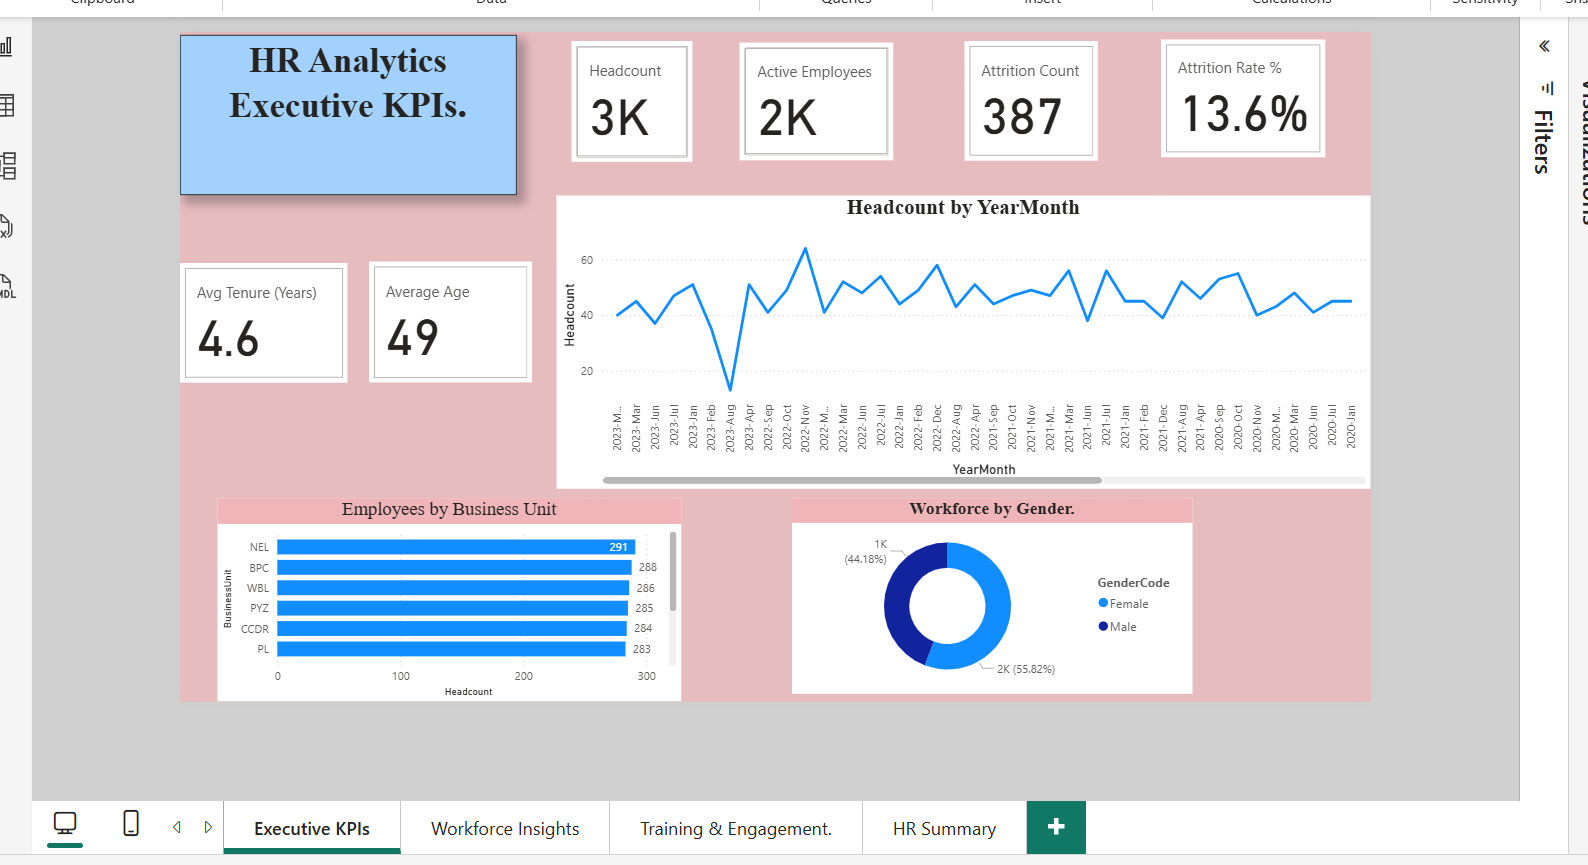

What the dashboard file says about the page in this screenshot:
{"tool":"powerbi","page":{"name":"Executive KPIs","canvas":[1280,720],"ordinal":0},"visuals":[{"type":"cardVisual","fields":{"Data":["HR_Data_Analysis.Headcount"]},"box":[421.7,10,130,130],"z":0},{"type":"cardVisual","fields":{"Data":["HR_Data_Analysis.Active Employees"]},"box":[601.7,11.7,165,126.7],"z":1000},{"type":"cardVisual","fields":{"Data":["HR_Data_Analysis.Attrition Count"]},"box":[843.3,10,143.3,128.3],"z":2000},{"type":"cardVisual","fields":{"Data":["HR_Data_Analysis.Attrition Rate %"]},"box":[1055,8.3,176.7,126.7],"z":3000},{"type":"cardVisual","fields":{"Data":["HR_Data_Analysis.Average Age"]},"box":[203.3,246.7,175,130],"z":4000},{"type":"cardVisual","fields":{"Data":["HR_Data_Analysis.Avg Tenure (Years)"]},"box":[0,248.3,180,128.3],"z":5000},{"type":"textbox","box":[0,3.3,361.7,171.7],"z":6000},{"type":"lineChart","fields":{"Category":["DimDate.YearMonth"],"Y":["HR_Data_Analysis.Headcount"]},"box":[405,175,875,315],"z":7000},{"type":"clusteredBarChart","title":"Employees by Business Unit","fields":{"Category":["HR_Data_Analysis.BusinessUnit"],"Y":["HR_Data_Analysis.Headcount"]},"box":[40.3,501.6,498.4,217.7],"z":8000},{"type":"donutChart","title":"Workforce by Gender.","fields":{"Category":["HR_Data_Analysis.GenderCode"],"Y":["HR_Data_Analysis.Headcount"]},"box":[658.1,501.6,430.6,209.7],"z":9000}]}

Visuals, with their boxes on the page's 1280x720 design canvas (x1, y1, x2, y2). These are canvas units, not pixel positions in the 1588x865 screenshot, which may show the page scaled, cropped or inside an application window:
cardVisual - HR_Data_Analysis.Headcount: 422, 10, 552, 140
cardVisual - HR_Data_Analysis.Active Employees: 602, 12, 767, 138
cardVisual - HR_Data_Analysis.Attrition Count: 843, 10, 987, 138
cardVisual - HR_Data_Analysis.Attrition Rate %: 1055, 8, 1232, 135
cardVisual - HR_Data_Analysis.Average Age: 203, 247, 378, 377
cardVisual - HR_Data_Analysis.Avg Tenure (Years): 0, 248, 180, 377
textbox: 0, 3, 362, 175
lineChart - DimDate.YearMonth x HR_Data_Analysis.Headcount: 405, 175, 1280, 490
"Employees by Business Unit" clusteredBarChart: 40, 502, 539, 719
"Workforce by Gender." donutChart: 658, 502, 1089, 711
